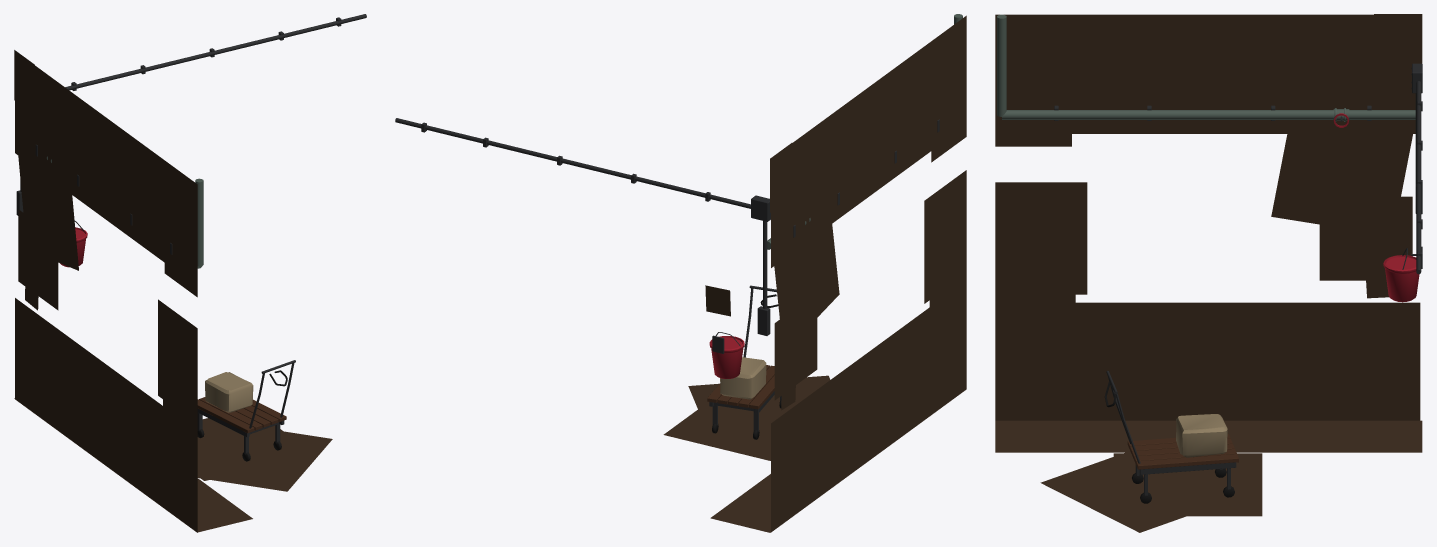
Rendered from ch3_dress_corridor.glb.
The picture shows the model from 3 angles, left to right: view 1: azimuth 30°, elevation 25°; view 2: azimuth 150°, elevation 25°; view 3: azimuth 270°, elevation 25°; orthographic projection. The views are drawn at different scales.
Parts seen in each view (by area): view 1: ch3_dress_corridor; view 2: ch3_dress_corridor; view 3: ch3_dress_corridor.
Boxes of the visible parts, left/top/right/bottom form: ch3_dress_corridor: left=14, top=14, right=366, bottom=532; ch3_dress_corridor: left=395, top=14, right=966, bottom=532; ch3_dress_corridor: left=995, top=14, right=1422, bottom=532.
Bounding box in the file's own units: 3.05 × 2.9 × 2.76.
